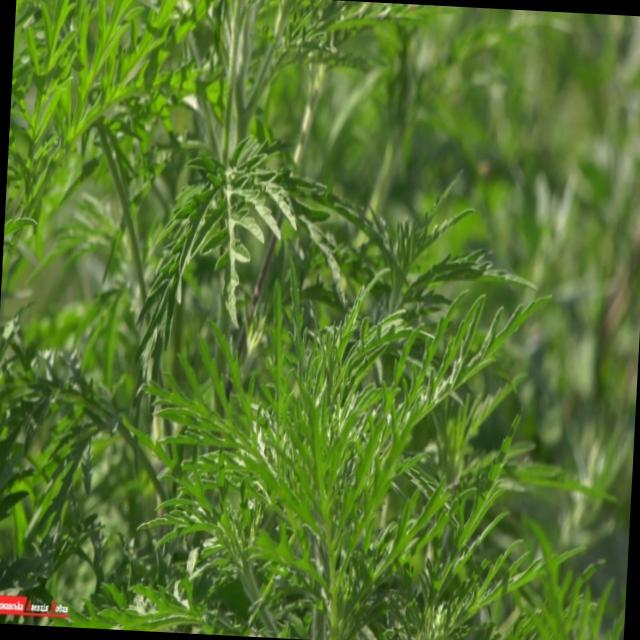ambrosia: (153, 99, 434, 368)
